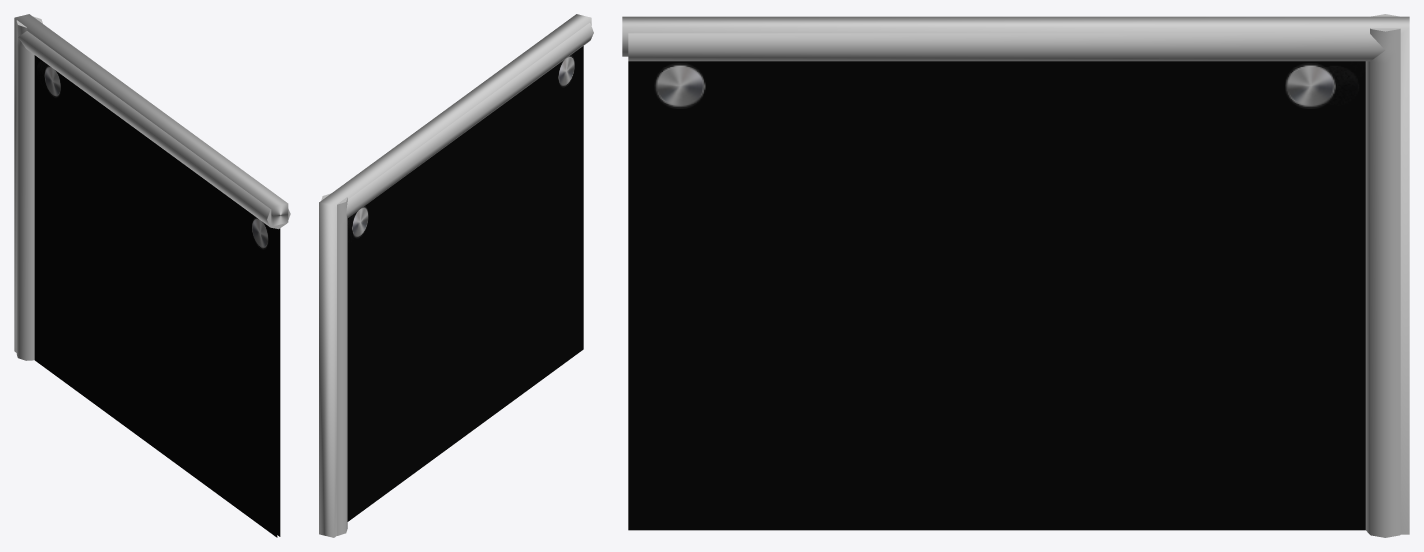
File: Barricade_Bars.fbx
The picture shows the model from 3 angles, left to right: view 1: azimuth 30°, elevation 25°; view 2: azimuth 150°, elevation 25°; view 3: azimuth 270°, elevation 25°; orthographic projection. The views are drawn at different scales.
Parts seen in each view (by area): view 1: Barricade_Bars_L0, Barricade_Bars; view 2: Barricade_Bars_L0, Barricade_Bars; view 3: Barricade_Bars, Barricade_Bars_L0.
Boxes of the visible parts, x1,y1,x2,y2 form: Barricade_Bars_L0: (14,14,288,537); Barricade_Bars: (16,16,290,360); Barricade_Bars_L0: (319,14,591,537); Barricade_Bars: (321,23,593,535); Barricade_Bars: (628,14,1400,537); Barricade_Bars_L0: (622,16,1409,534).
Bounding box in the file's own units: 0.22 × 2.96 × 4.16.
